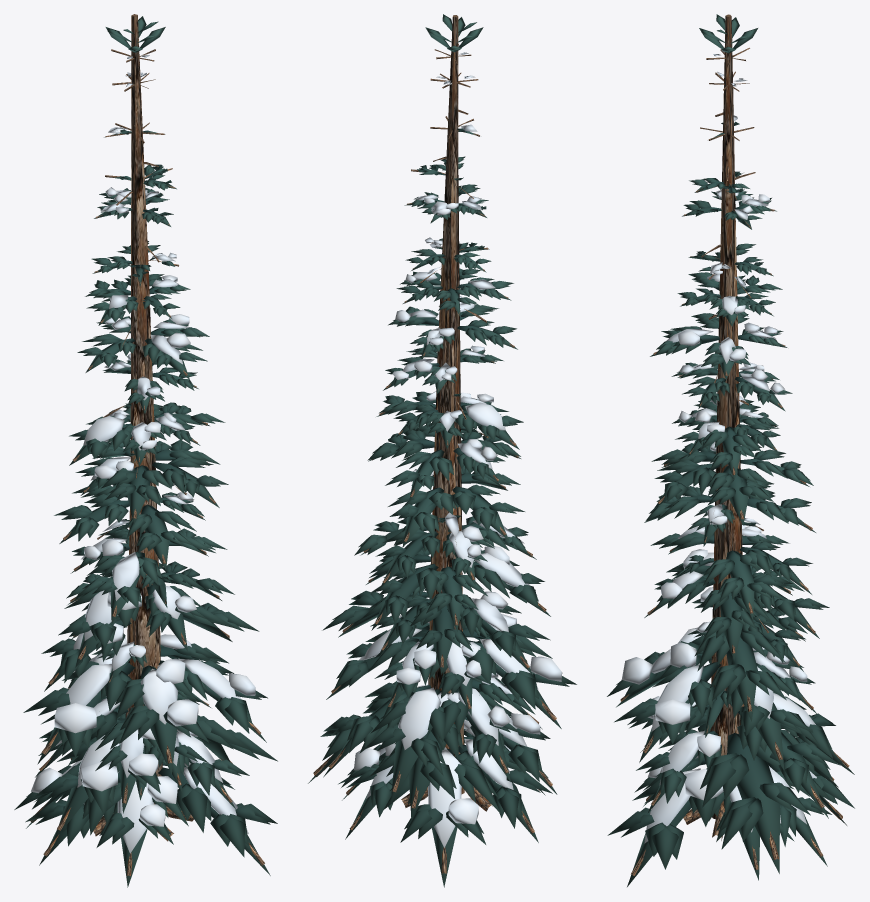
File: tree14.glb
The picture shows the model from 3 angles, left to right: view 1: azimuth 30°, elevation 25°; view 2: azimuth 150°, elevation 25°; view 3: azimuth 270°, elevation 25°; orthographic projection. The views are drawn at different scales.
Visible parts, largest first — view 1: Alpine14_1 (×2), Alpine14_2 (×2), Alpine14_0 (×2); view 2: Alpine14_1 (×2), Alpine14_2 (×2), Alpine14_0 (×2); view 3: Alpine14_1 (×2), Alpine14_2 (×2), Alpine14_0.
Boxes of the visible parts, box(x1,y1,x2,y2) form: Alpine14_1 (×2): box(14, 16, 277, 887); Alpine14_2 (×2): box(31, 55, 255, 853); Alpine14_0 (×2): box(30, 14, 264, 875); Alpine14_1 (×2): box(308, 14, 576, 887); Alpine14_2 (×2): box(354, 45, 562, 847); Alpine14_0 (×2): box(313, 15, 556, 873); Alpine14_1 (×2): box(607, 14, 854, 886); Alpine14_2 (×2): box(621, 50, 816, 843); Alpine14_0: box(620, 14, 849, 875).
Bounding box in the file's own units: 6.05 × 20.01 × 5.41.
Materials: 6 (2 with a texture image).
